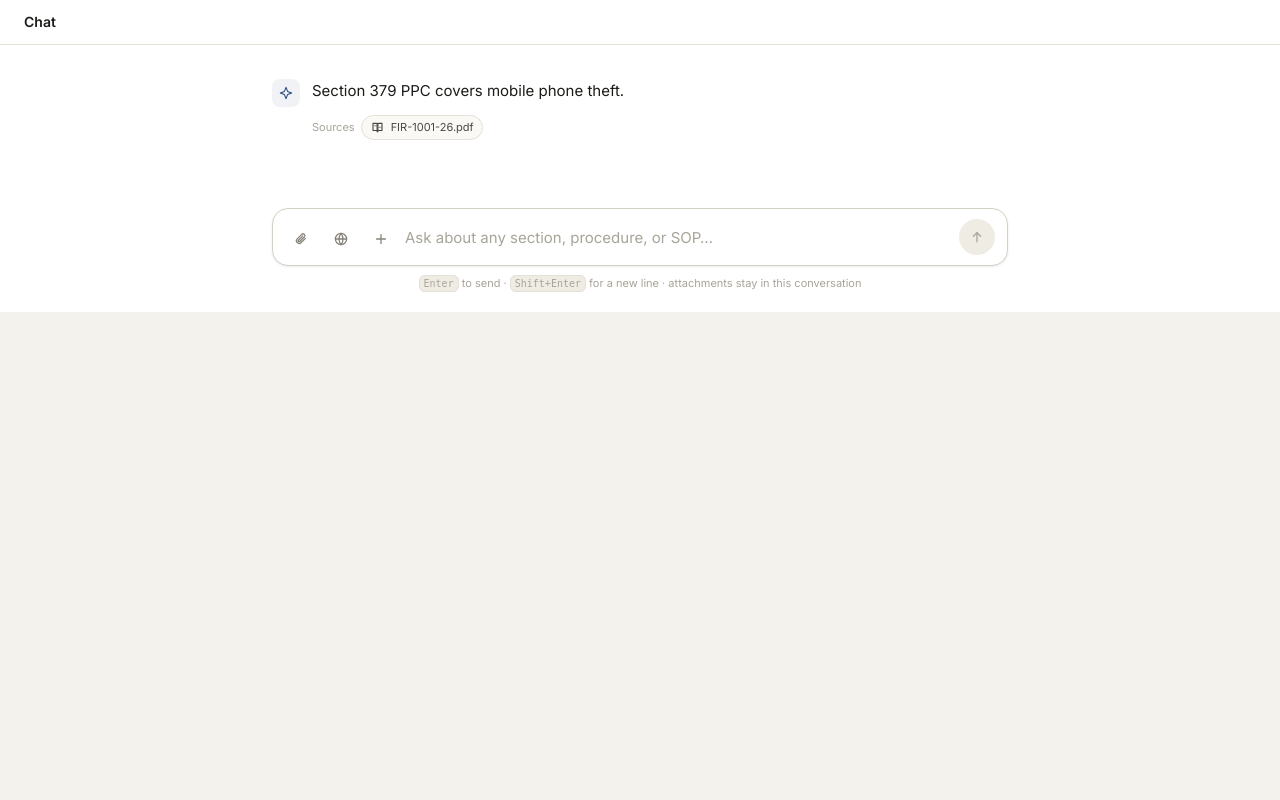
it: Chat layout — citation overlay, not a reserved column › clicking a citation chip opens the overlay dialog
The image size is (1280, 800).
Click the button titled "FIR-1001-26.pdf" at (422, 127), box top-left (361, 115), bottom-right (483, 140)
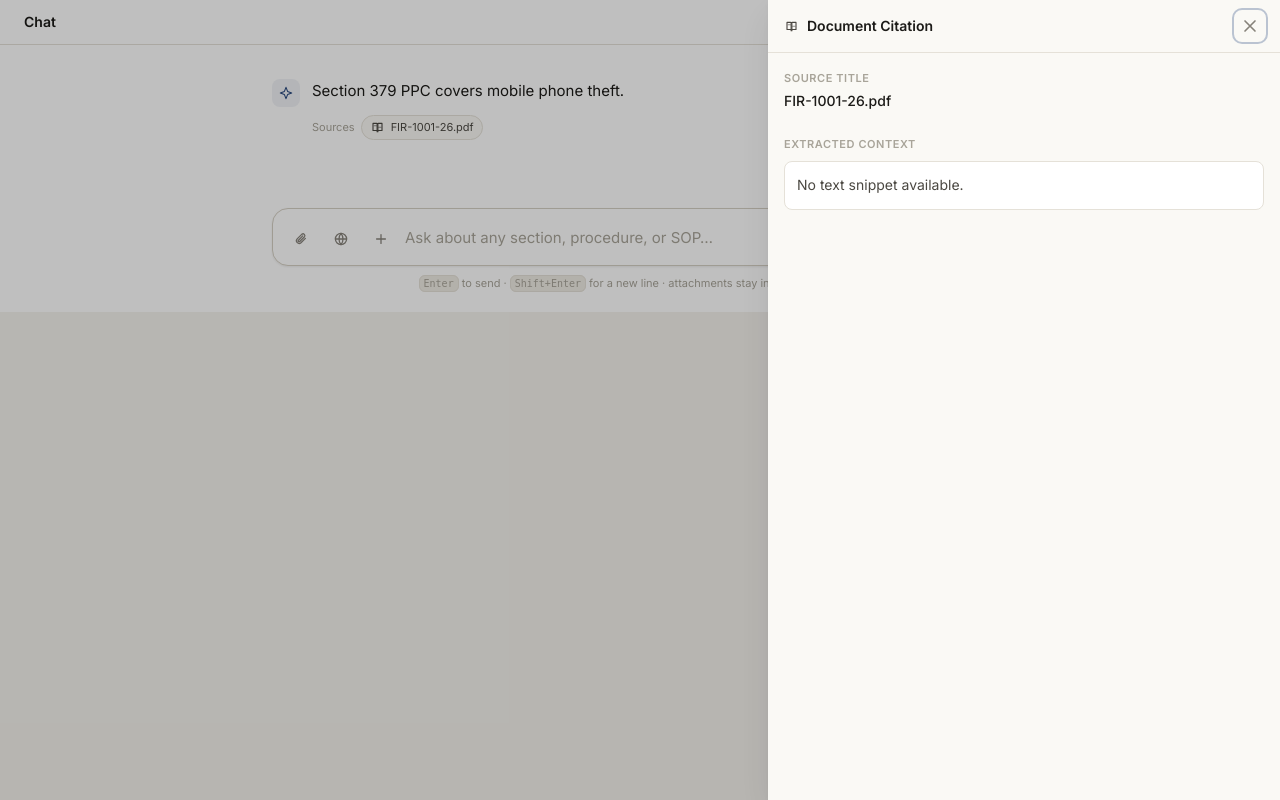
Result: the text "FIR-1001-26.pdf" is shown at top-left (784, 92), bottom-right (891, 109)
